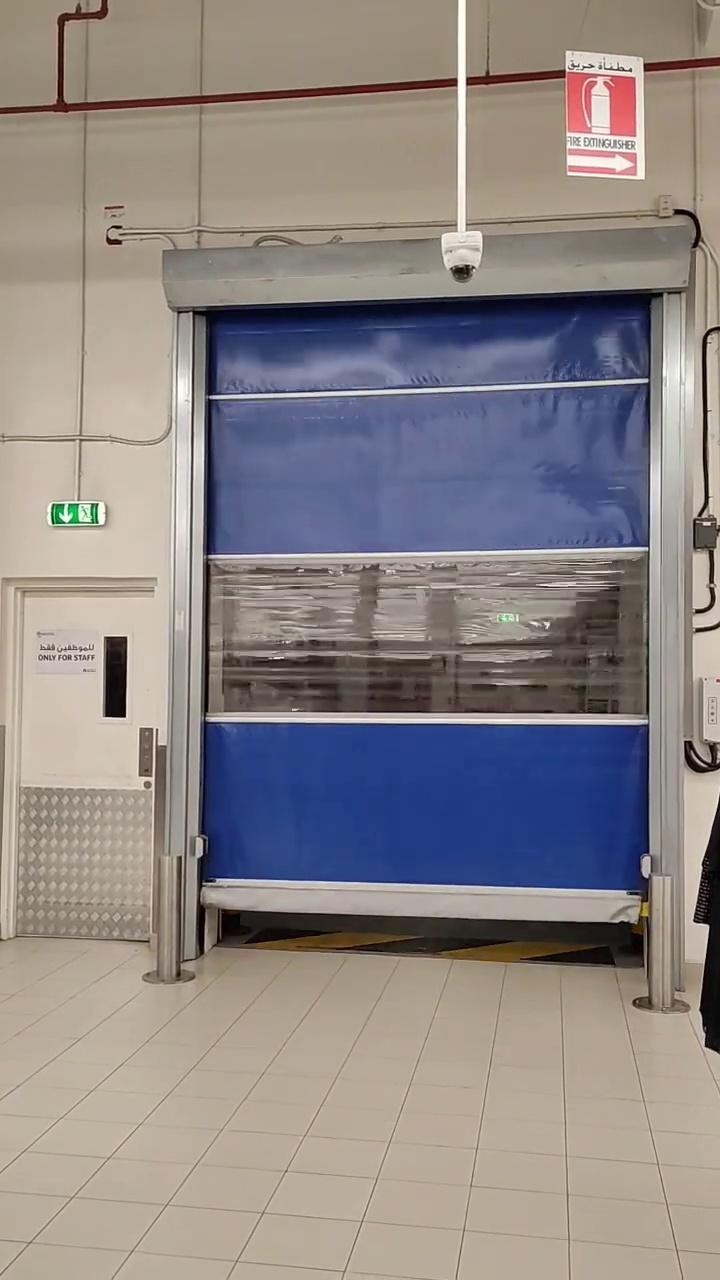Strip: (248, 920, 609, 971)
